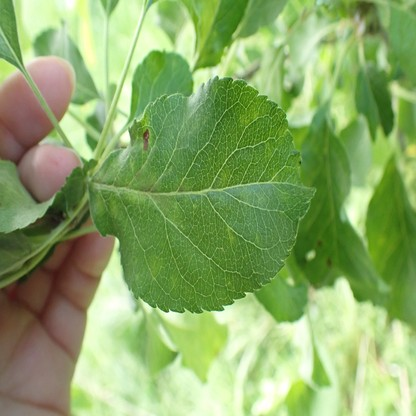frogeye_leaf_spot: (143, 130, 149, 155)
scab: (118, 168, 161, 203), (178, 183, 186, 192)
